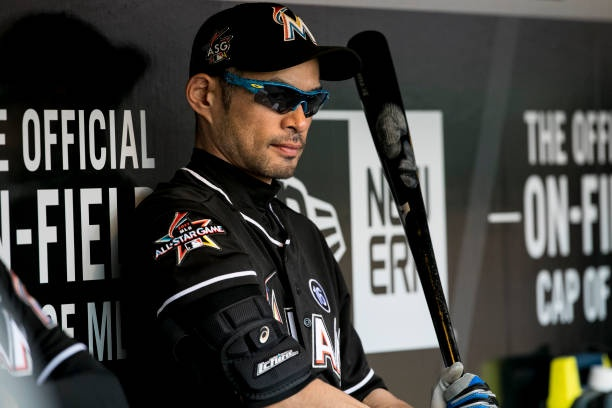bita: (348, 29, 478, 391)
